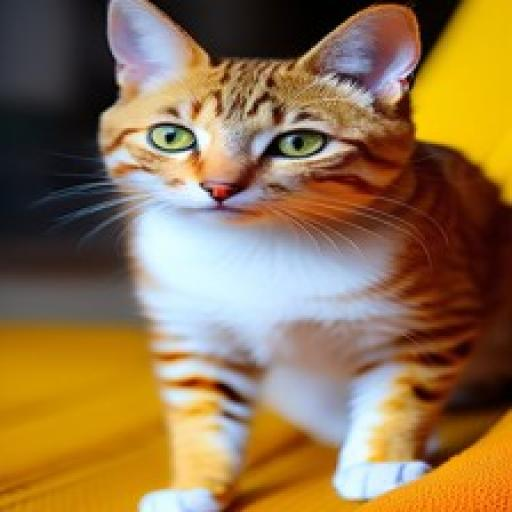cat: (93, 0, 512, 512)
